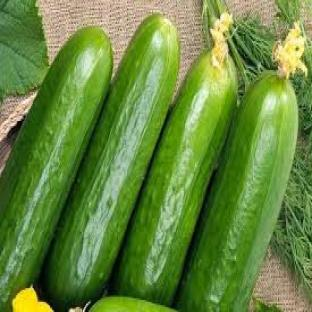Cucumber: (45, 14, 179, 310), (0, 28, 112, 311), (115, 53, 237, 305), (177, 72, 298, 311), (90, 297, 174, 311)
